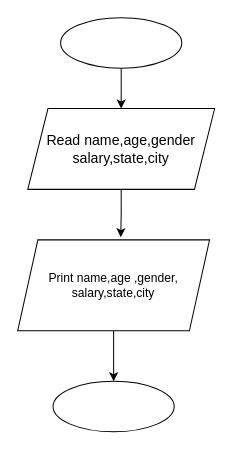
The diagram is 232 pixels wide and 449 high, and some of its shapes have lost their labels. The shapes that lost their labels are listed below. From the top down, each one's centre as x and y in pixels, then its label:
point (121, 42): Start
point (113, 406): Stop
